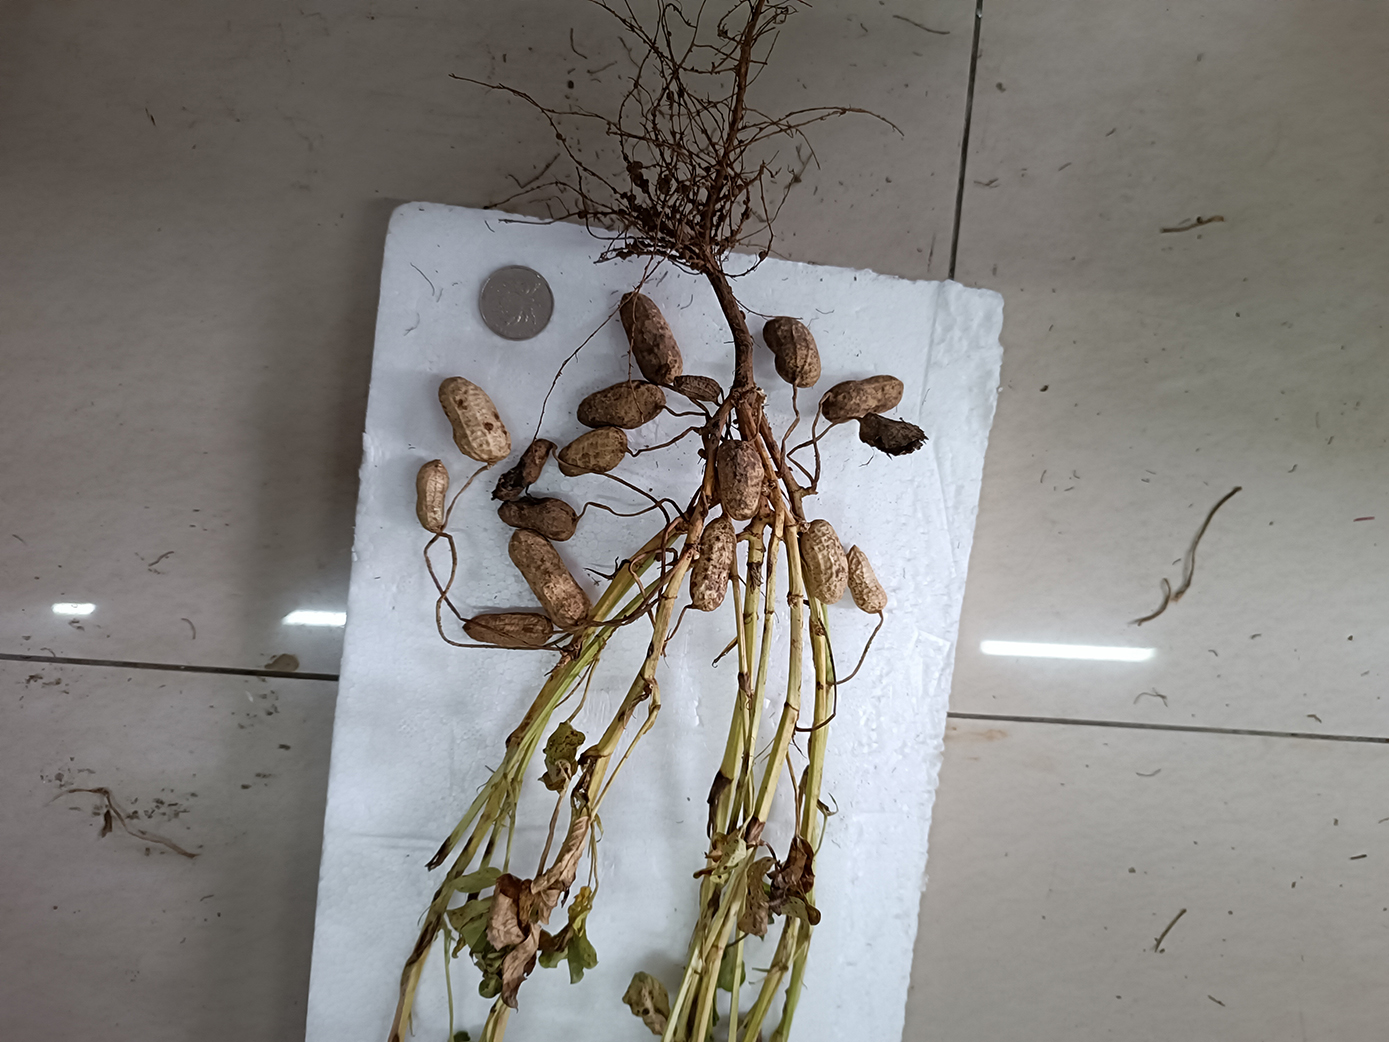h: (507, 529, 589, 629), (438, 377, 511, 461), (763, 316, 821, 389), (801, 519, 848, 605), (716, 440, 765, 522), (558, 427, 627, 478), (848, 544, 888, 614), (415, 459, 450, 535)
l: (620, 291, 684, 385), (688, 517, 736, 612), (576, 380, 665, 428), (820, 374, 904, 424), (491, 438, 555, 501), (497, 497, 578, 540), (461, 612, 554, 647), (860, 412, 929, 458), (673, 373, 720, 402)
